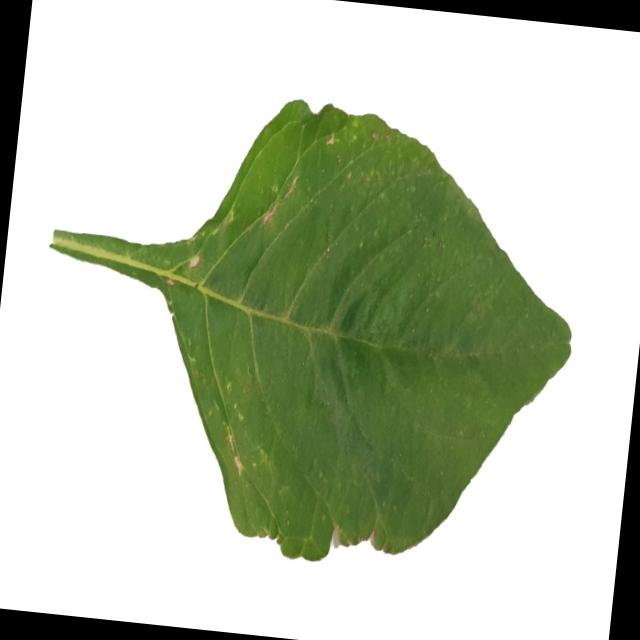Medicinal-Arive Dantu: (19, 73, 596, 586)
